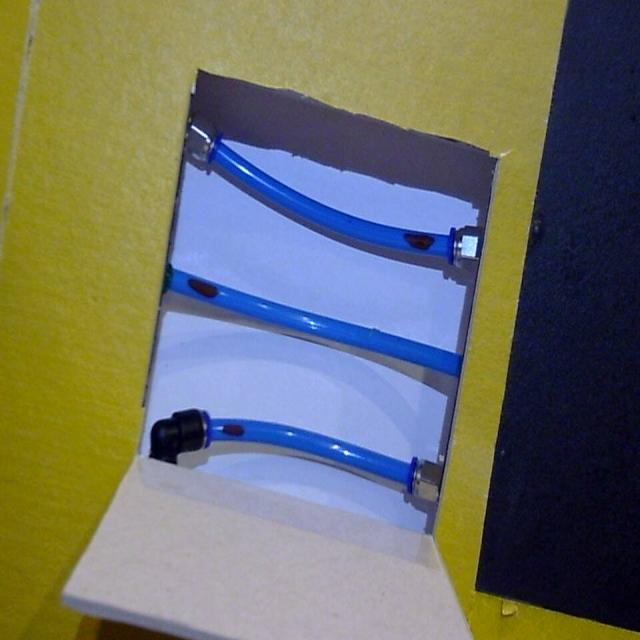hose_damage: (184, 274, 219, 300), (402, 229, 436, 251), (220, 421, 246, 438)
